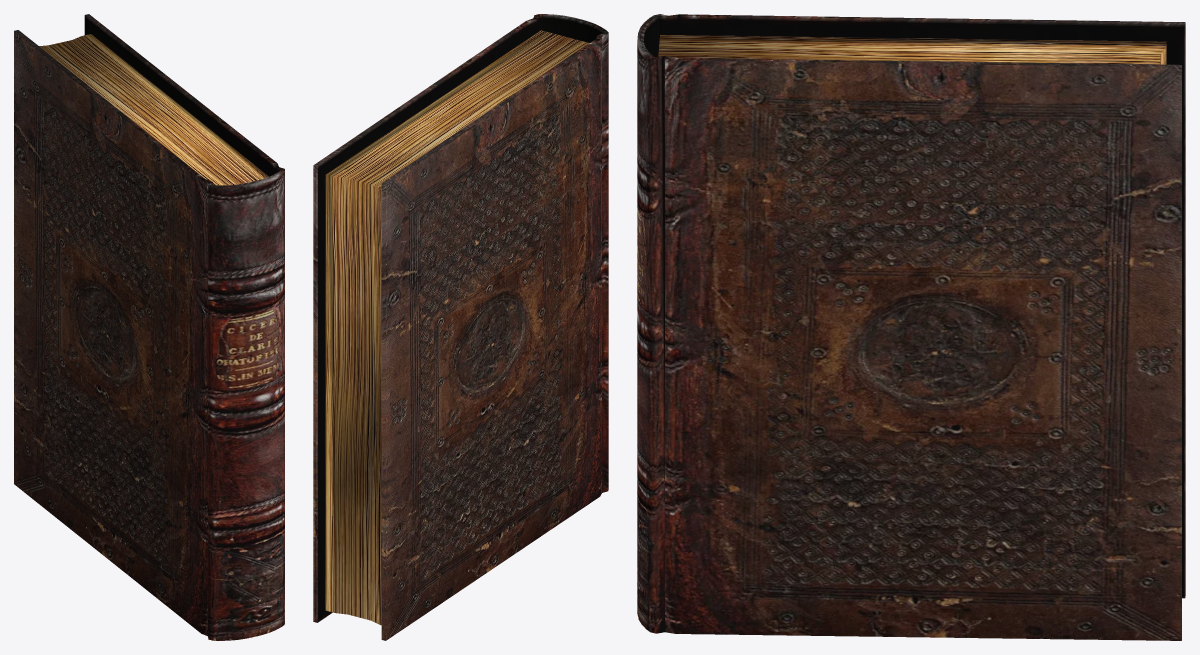
The model's file is book.glb.
3 views of the same model, side by side, from view 1: azimuth 30°, elevation 25°; view 2: azimuth 150°, elevation 25°; view 3: azimuth 270°, elevation 25° (orthographic). The views are drawn at different scales.
Parts seen in each view (by area): view 1: old_book_01_old_book_01_0; view 2: old_book_01_old_book_01_0; view 3: old_book_01_old_book_01_0.
Boxes of the visible parts, left/top/right/bottom form: old_book_01_old_book_01_0: left=14, top=14, right=284, bottom=640; old_book_01_old_book_01_0: left=313, top=14, right=608, bottom=640; old_book_01_old_book_01_0: left=637, top=14, right=1185, bottom=640.
Size of the model in its own units: 0.0474 by 0.2367 by 0.205.
Materials: 1 (1 with a texture image).
